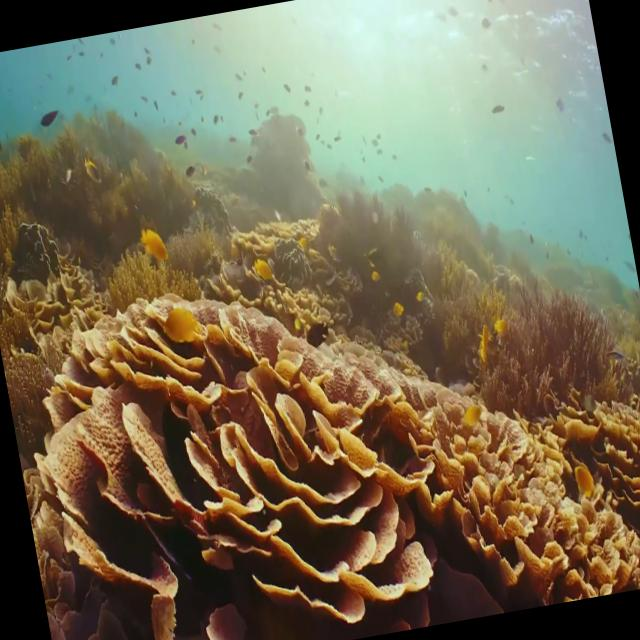fish: (136, 222, 172, 269)
